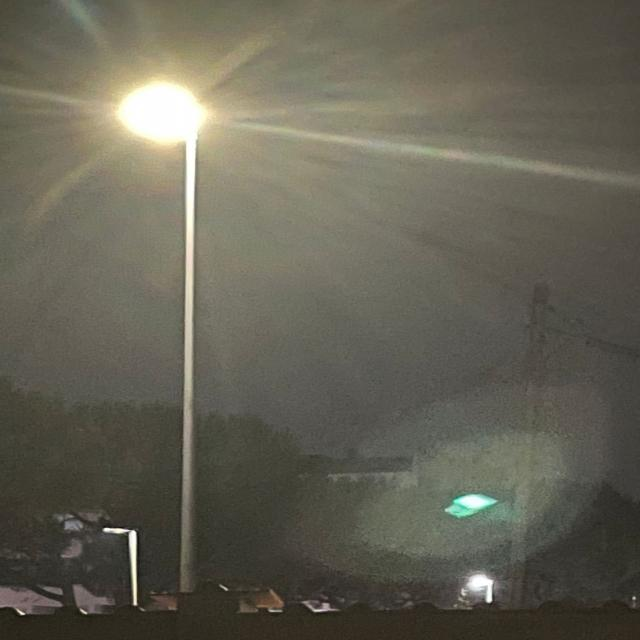lampione: (115, 77, 211, 153)
